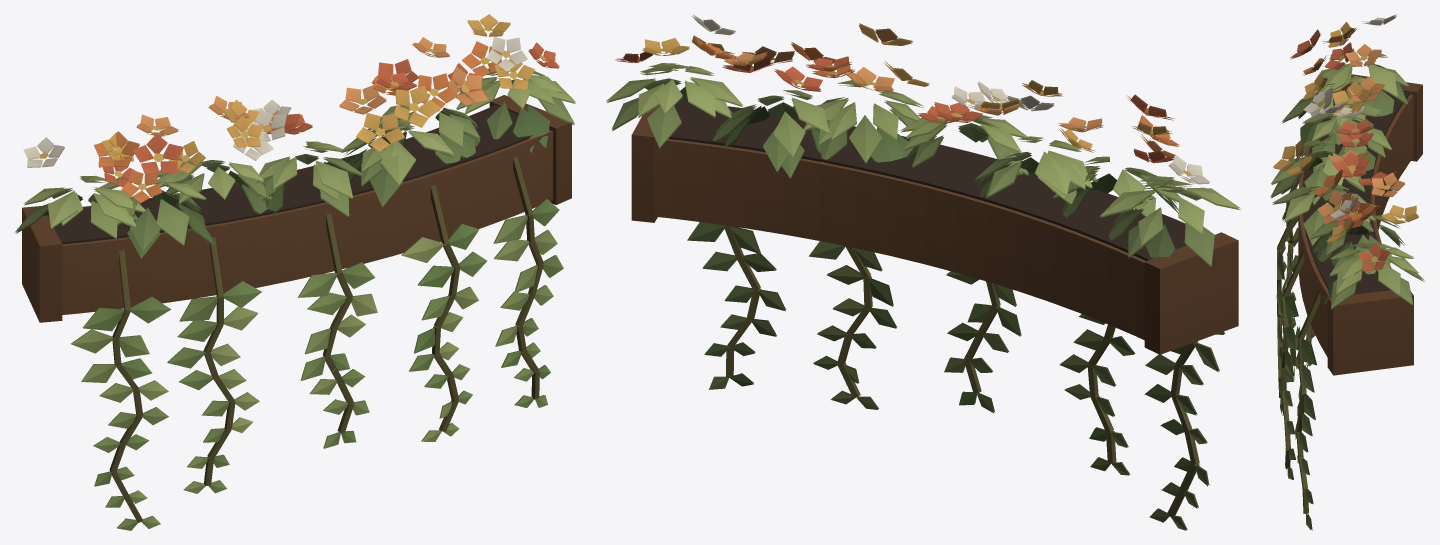
Rendered from flower_box.glb.
3 views of the same model, side by side, from view 1: azimuth 30°, elevation 25°; view 2: azimuth 150°, elevation 25°; view 3: azimuth 270°, elevation 25° (orthographic). The views are drawn at different scales.
Parts seen in each view (by area): view 1: Window 3 | flower box (window 3) | 001; view 2: Window 3 | flower box (window 3) | 001; view 3: Window 3 | flower box (window 3) | 001.
Part boxes in pixels (left/top/right/bottom): Window 3 | flower box (window 3) | 001: left=14, top=14, right=575, bottom=530; Window 3 | flower box (window 3) | 001: left=606, top=14, right=1240, bottom=530; Window 3 | flower box (window 3) | 001: left=1270, top=14, right=1424, bottom=530.
Bounding box in the file's own units: 1.46 × 1 × 0.4042.
